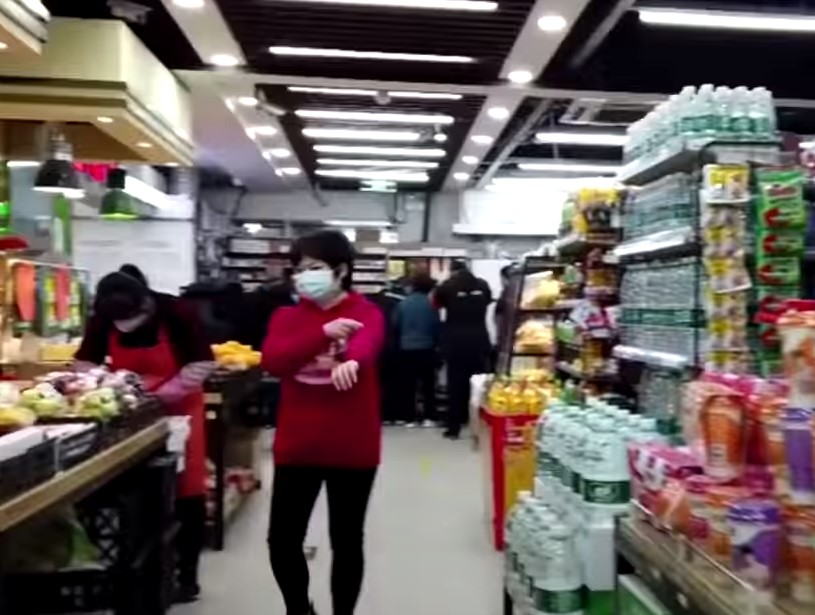face_with_mask: (285, 228, 355, 312)
